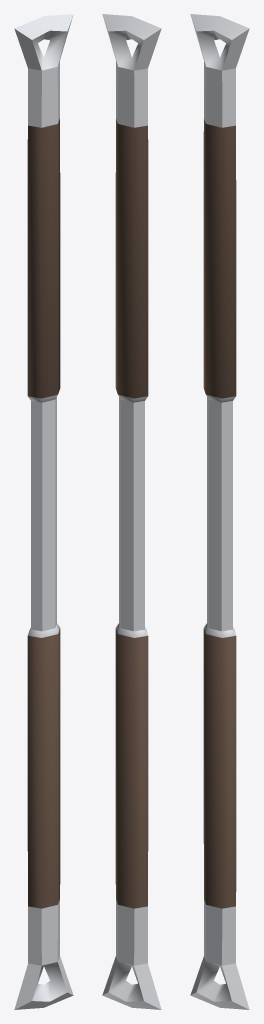
Rendered from Weapon_Staff.glb.
The picture shows the model from 3 angles, left to right: view 1: azimuth 30°, elevation 25°; view 2: azimuth 150°, elevation 25°; view 3: azimuth 330°, elevation 25°; orthographic projection.
Visible parts, largest first — view 1: Weapon_Staff; view 2: Weapon_Staff; view 3: Weapon_Staff.
Part boxes in pixels (x1=…): Weapon_Staff: x1=14, y1=14, x2=73, y2=1009; Weapon_Staff: x1=102, y1=14, x2=161, y2=1009; Weapon_Staff: x1=190, y1=14, x2=249, y2=1009.
Size of the model in its own units: 0.1065 by 1.7 by 0.037.
